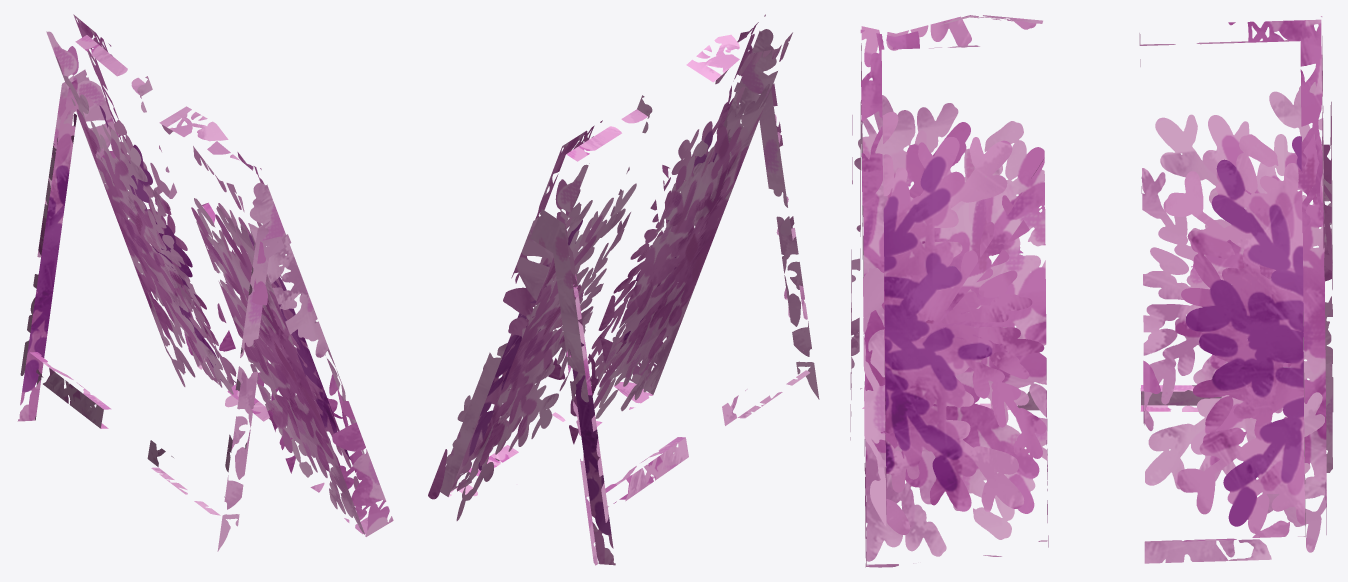
The model's file is photoframe.fbx.
3 views of the same model, side by side, from view 1: azimuth 30°, elevation 25°; view 2: azimuth 150°, elevation 25°; view 3: azimuth 270°, elevation 25° (orthographic). The views are drawn at different scales.
Visible parts, largest first — view 1: Item_L_frame, Item_R_frame; view 2: Item_R_frame, Item_L_frame; view 3: Item_L_frame, Item_R_frame.
Part boxes in pixels (x1=…): Item_L_frame: x1=147, y1=106, x2=393, y2=551; Item_R_frame: x1=17, y1=14, x2=270, y2=428; Item_R_frame: x1=428, y1=95, x2=688, y2=565; Item_L_frame: x1=552, y1=14, x2=819, y2=444; Item_L_frame: x1=850, y1=15, x2=1048, y2=567; Item_R_frame: x1=1139, y1=16, x2=1333, y2=563.
Size of the model in its own units: 12.52 by 25.61 by 23.09.
Materials: 1 (1 with a texture image).
